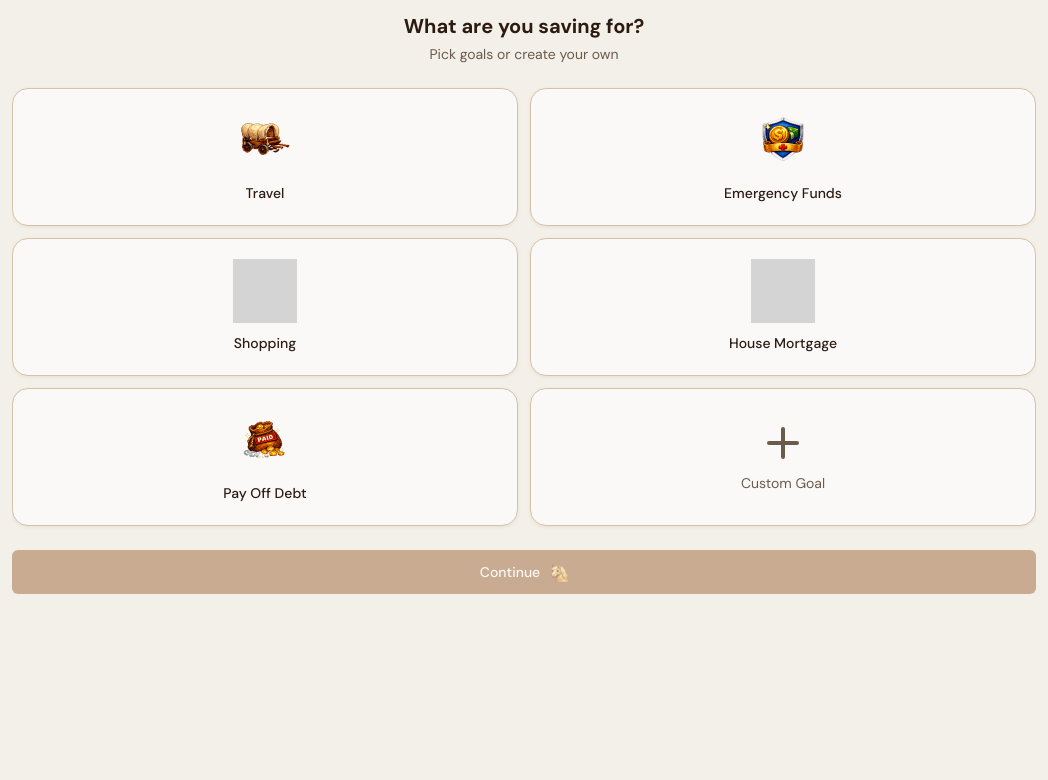
Test: GoalsPage › adds custom goal from the form
Click the button "Custom Goal" at (783, 457), box [530, 388, 1036, 526]
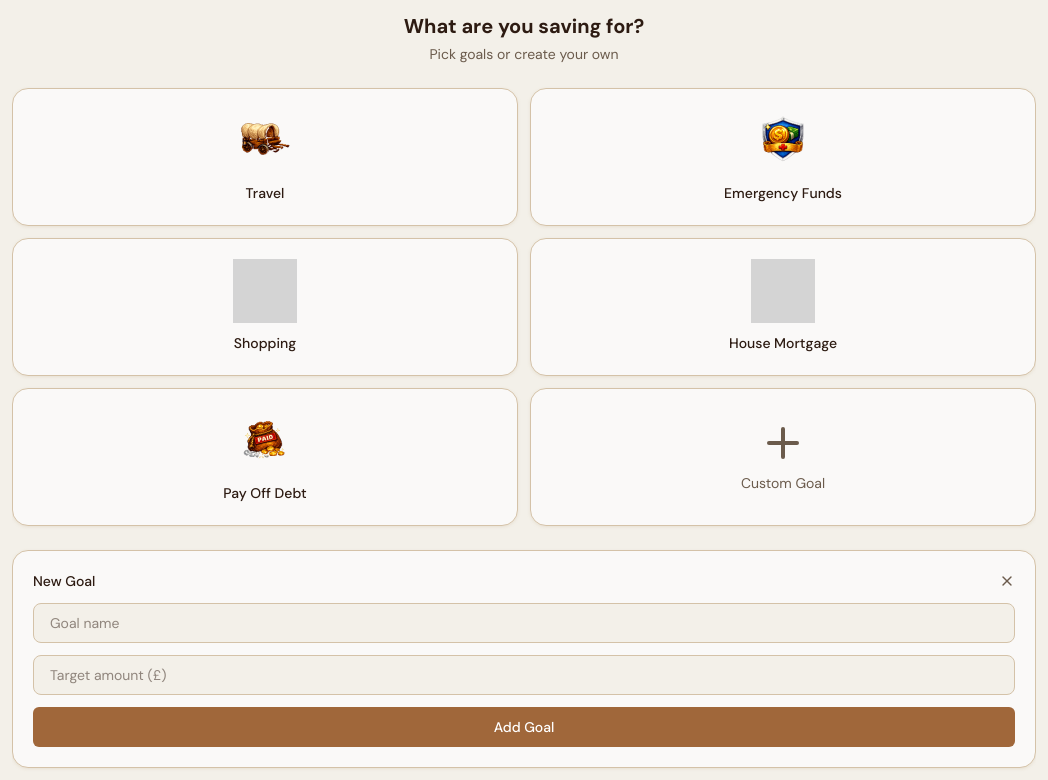
Type "New Bike" into the field with placeholder "Goal name" at (524, 623), box [33, 603, 1015, 643]
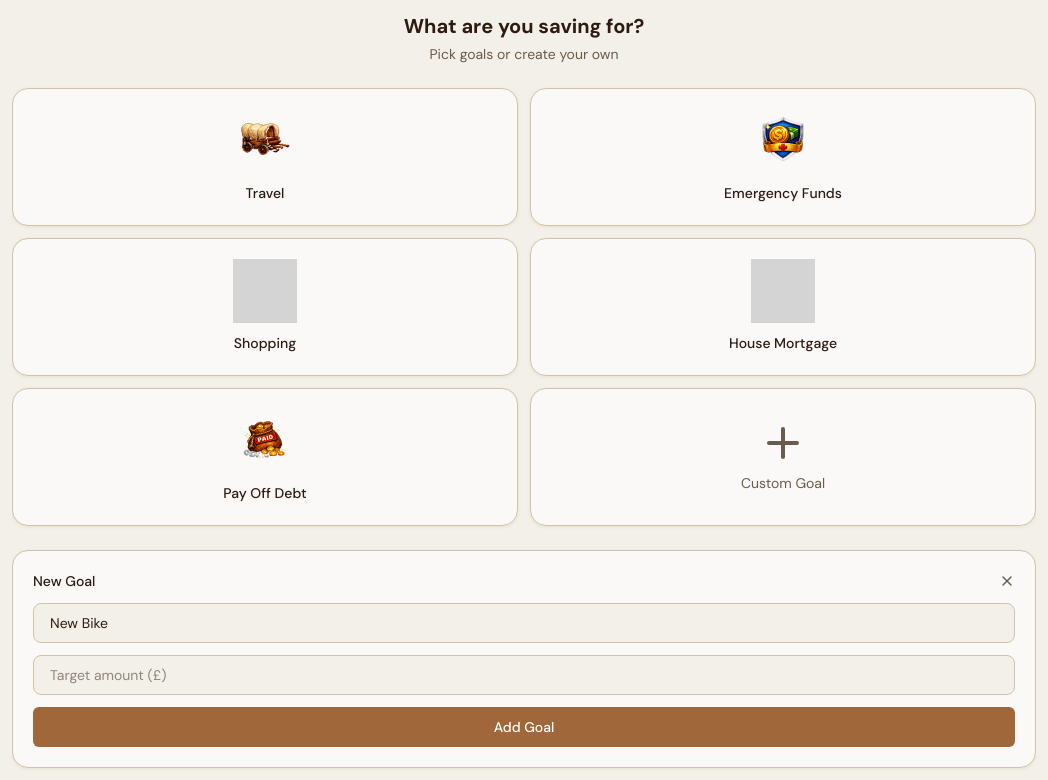
Type "500" into the number field with placeholder "Target amount (£)" at (524, 675), box [33, 655, 1015, 695]
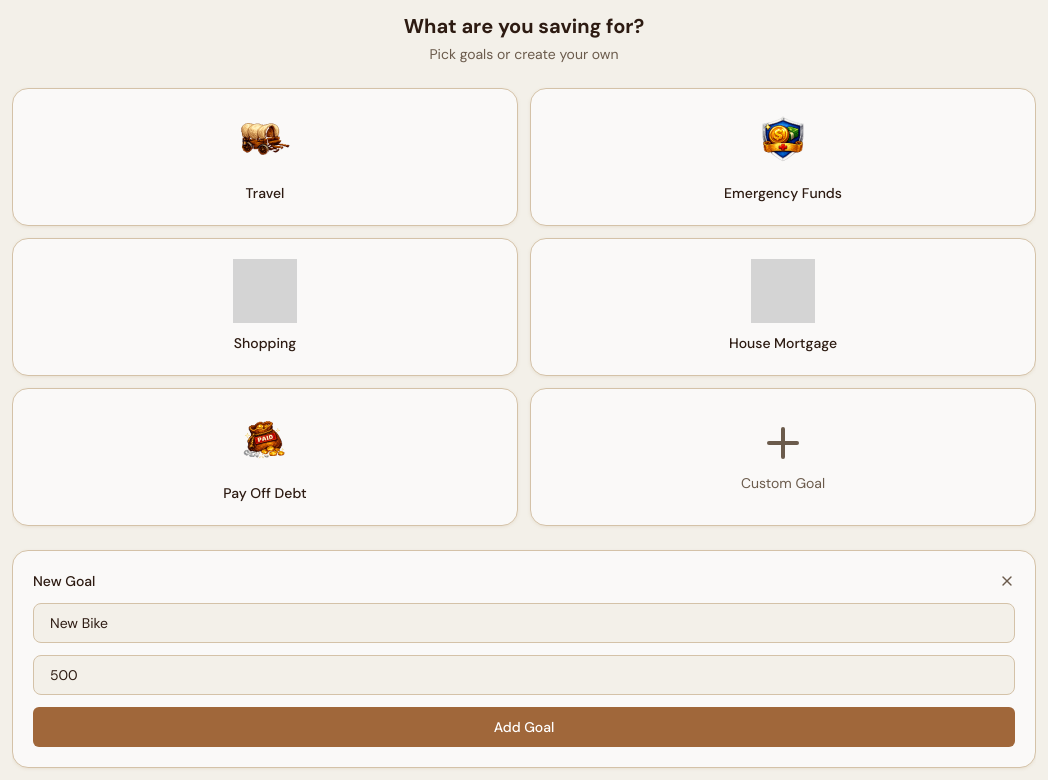
Click the button "Add Goal" at (524, 727), box [33, 707, 1015, 747]
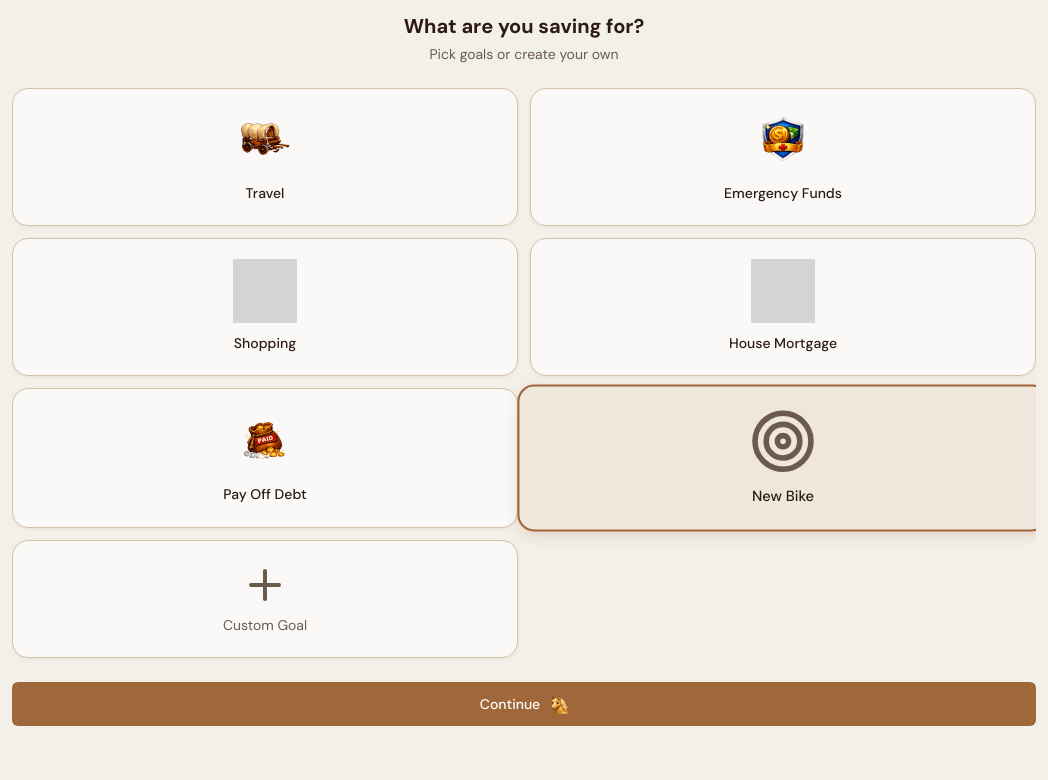
Result: the text "New Bike" is shown at [752, 486, 814, 505]
